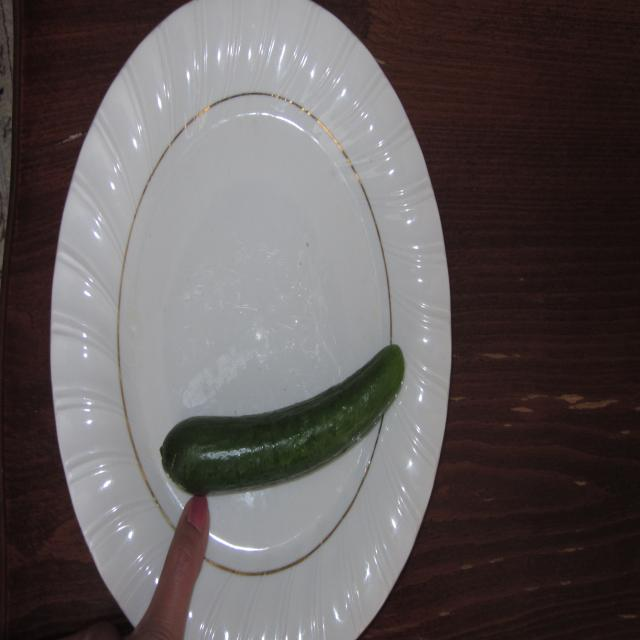cucumber: (158, 340, 412, 490)
